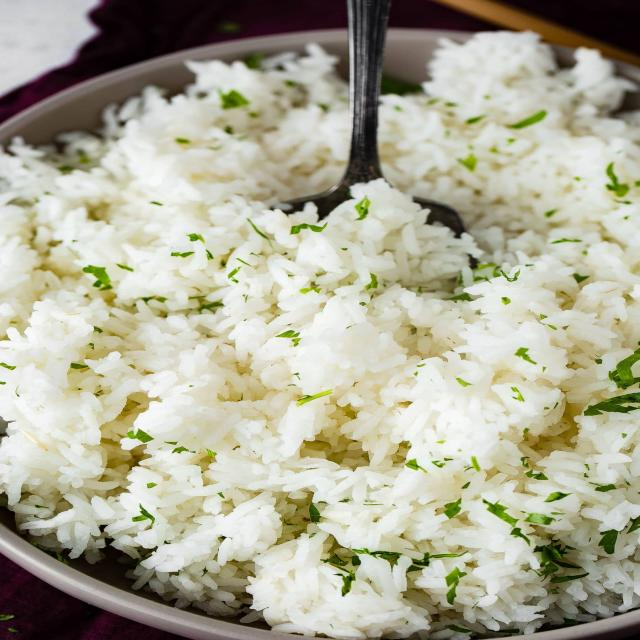Wet Waste: (0, 26, 640, 625)
